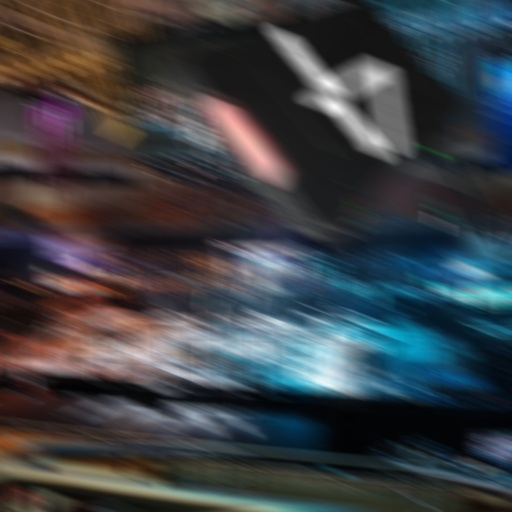red: (173, 0, 465, 247)
